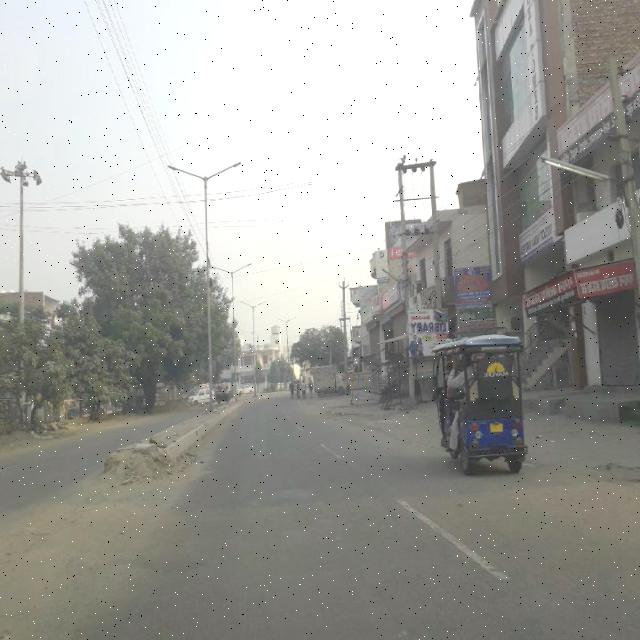D44: (394, 491, 520, 589), (316, 436, 346, 460)
